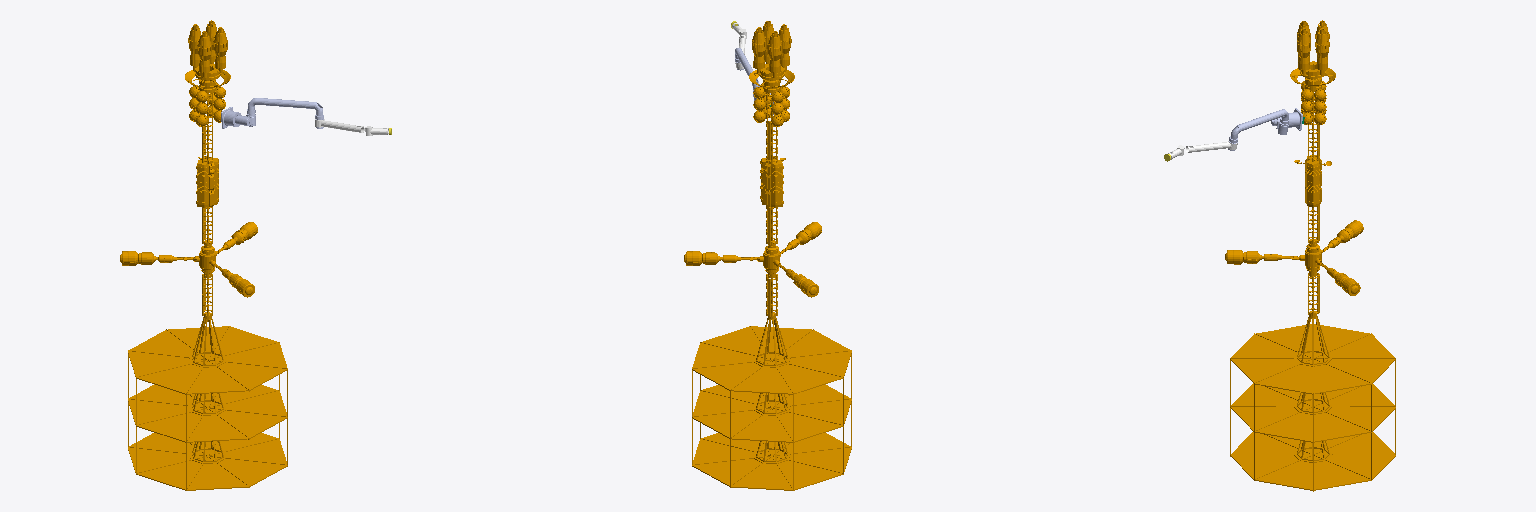
robot.urdf — satellite_17__starlink_sldasm9:
<?xml version='1.0' encoding='utf-8'?>
<robot name="satellite_17__starlink_sldasm9">
  <link name="base_link">
    <visual>
      <geometry>
        <mesh filename="../satellites/satellite_17/satellite.stl" />
      </geometry>
    </visual>
    <collision>
      <geometry>
        <mesh filename="../satellites/satellite_17/satellite.stl" />
      </geometry>
    </collision>
  </link>
  <link name="satellite_17_mount" />
  <joint name="satellite_mount_fixed" type="fixed">
    <parent link="base_link" />
    <child link="satellite_17_mount" />
    <origin xyz="0.21167709790354092 1.2761797060204623 2.356391633916866" rpy="-1.4432899320127035e-15 -1.4584003706330262 1.9683187523291181" />
  </joint>
  <link name="mount_support">
    <visual>
      <geometry>
        <mesh filename="../satellites/satellite_17/mount_support.stl" />
      </geometry>
    </visual>
    <collision>
      <geometry>
        <mesh filename="../satellites/satellite_17/mount_support.stl" />
      </geometry>
    </collision>
  </link>
  <joint name="support_fixed" type="fixed">
    <parent link="satellite_17_mount" />
    <child link="mount_support" />
    <origin xyz="0 0 0" rpy="0 0 0" />
  </joint>
  <joint name="arm_adapter_fixed" type="fixed">
    <parent link="satellite_17_mount" />
    <child link="starlink_space_manipulator_base_link" />
    <origin xyz="0.009087204933166504 0.008519247174263 0.16000000119209337" rpy="-1.5707963267948966 0 0.0" />
  </joint>
  <link name="starlink_space_manipulator_base_link">
    <inertial>
      <origin xyz="-0.00908719924946466 0.0225428225681148 -0.00851924929637313" rpy="0 0 0" />
      <mass value="8.66024015898073" />
      <inertia ixx="0.0960303512697639" ixy="1.65511904636803E-18" ixz="6.22039820639877E-19" iyy="0.103454922260914" iyz="-9.68471289978311E-19" izz="0.0960303512697639" />
    </inertial>
    <visual>
      <origin xyz="0 0 0" rpy="0 0 0" />
      <geometry>
        <mesh filename="../arms/starlink_sldasm9/meshes/starlink_space_manipulator_base_link.STL" />
      </geometry>
      <material name="">
        <color rgba="0.792156862745098 0.819607843137255 0.933333333333333 1" />
      </material>
    </visual>
    <collision>
      <origin xyz="0 0 0" rpy="0 0 0" />
      <geometry>
        <mesh filename="../arms/starlink_sldasm9/meshes/starlink_space_manipulator_base_link.STL" />
      </geometry>
    </collision>
  </link>
  <link name="starlink_space_manipulator_Shoulder_link_1">
    <inertial>
      <origin xyz="-0.000399471745595769 -0.100006574194712 -0.17423940484461" rpy="0 0 0" />
      <mass value="5.16309216784981" />
      <inertia ixx="0.0524543852135592" ixy="0.00348154867667969" ixz="6.96526910910627E-05" iyy="0.0306595326318824" iyz="-0.00056674368052247" izz="0.0439979075615329" />
    </inertial>
    <visual>
      <origin xyz="0 0 0" rpy="0 0 0" />
      <geometry>
        <mesh filename="../arms/starlink_sldasm9/meshes/starlink_space_manipulator_Shoulder_link_1.STL" />
      </geometry>
      <material name="">
        <color rgba="0.792156862745098 0.819607843137255 0.933333333333333 1" />
      </material>
    </visual>
    <collision>
      <origin xyz="0 0 0" rpy="0 0 0" />
      <geometry>
        <mesh filename="../arms/starlink_sldasm9/meshes/starlink_space_manipulator_Shoulder_link_1.STL" />
      </geometry>
    </collision>
  </link>
  <joint name="starlink_space_manipulator_Shoulder_link_1_yaw" type="revolute">
    <origin xyz="-0.0090872 -0.065 -0.0085192" rpy="1.5708 -0.15574 3.1416" />
    <parent link="starlink_space_manipulator_base_link" />
    <child link="starlink_space_manipulator_Shoulder_link_1" />
    <axis xyz="0 0 -1" />
    <limit lower="-3.14" upper="3.14" effort="0" velocity="0" />
  </joint>
  <link name="starlink_space_manipulator_Upper_arm_Link_1">
    <inertial>
      <origin xyz="0.402106341472203 -0.696465272634528 -0.170177523085579" rpy="0 0 0" />
      <mass value="5.05309869040685" />
      <inertia ixx="0.388719013133801" ixy="0.210155896498943" ixz="9.30829370680679E-08" iyy="0.146049057575642" iyz="1.71830458004218E-07" izz="0.500677708275447" />
    </inertial>
    <visual>
      <origin xyz="0 0 0" rpy="0 0 0" />
      <geometry>
        <mesh filename="../arms/starlink_sldasm9/meshes/starlink_space_manipulator_Upper_arm_Link_1.STL" />
      </geometry>
      <material name="">
        <color rgba="0.792156862745098 0.819607843137255 0.933333333333333 1" />
      </material>
    </visual>
    <collision>
      <origin xyz="0 0 0" rpy="0 0 0" />
      <geometry>
        <mesh filename="../arms/starlink_sldasm9/meshes/starlink_space_manipulator_Upper_arm_Link_1.STL" />
      </geometry>
    </collision>
  </link>
  <joint name="starlink_space_manipulator_Upper_arm_Link_1_roll" type="revolute">
    <origin xyz="0 -0.2 -0.18" rpy="1.5708 0.90646 1.5708" />
    <parent link="starlink_space_manipulator_Shoulder_link_1" />
    <child link="starlink_space_manipulator_Upper_arm_Link_1" />
    <axis xyz="0 0 -1" />
    <limit lower="-2" upper="1.5" effort="0" velocity="0" />
  </joint>
  <link name="starlink_space_manipulator_Mid_arm_Link_1">
    <inertial>
      <origin xyz="-0.000406052776441013 0.317722269561105 0.0155331755135703" rpy="0 0 0" />
      <mass value="1.57635531881168" />
      <inertia ixx="0.133610363618846" ixy="5.33750993405138E-05" ixz="-3.60473795202962E-09" iyy="0.00502119434334708" iyz="-2.514275749911E-05" izz="0.134586018527477" />
    </inertial>
    <visual>
      <origin xyz="0 0 0" rpy="0 0 0" />
      <geometry>
        <mesh filename="../arms/starlink_sldasm9/meshes/starlink_space_manipulator_Mid_arm_Link_1.STL" />
      </geometry>
      <material name="">
        <color rgba="1 1 1 1" />
      </material>
    </visual>
    <collision>
      <origin xyz="0 0 0" rpy="0 0 0" />
      <geometry>
        <mesh filename="../arms/starlink_sldasm9/meshes/starlink_space_manipulator_Mid_arm_Link_1.STL" />
      </geometry>
    </collision>
  </link>
  <joint name="starlink_space_manipulator_Mid_arm_Link_1_roll" type="revolute">
    <origin xyz="0.599999999999673 -1.03923048454122 0" rpy="-3.14159265358979 0 0.828250280535091" />
    <parent link="starlink_space_manipulator_Upper_arm_Link_1" />
    <child link="starlink_space_manipulator_Mid_arm_Link_1" />
    <axis xyz="0 0 -1" />
    <limit lower="-3.14" upper="3.14" effort="0" velocity="0" />
  </joint>
  <link name="starlink_space_manipulator_Upper_wrist_Link_1">
    <inertial>
      <origin xyz="-0.000400003664721815 -0.201565878030355 -0.00216705855311664" rpy="0 0 0" />
      <mass value="0.994770641034713" />
      <inertia ixx="0.00165409639029414" ixy="-7.59103925411082E-06" ixz="-3.17403155320863E-06" iyy="0.00201437937768072" iyz="2.63246464091218E-06" izz="0.00159638838344539" />
    </inertial>
    <visual>
      <origin xyz="0 0 0" rpy="0 0 0" />
      <geometry>
        <mesh filename="../arms/starlink_sldasm9/meshes/starlink_space_manipulator_Upper_wrist_Link_1.STL" />
      </geometry>
      <material name="">
        <color rgba="0.792156862745098 0.819607843137255 0.933333333333333 1" />
      </material>
    </visual>
    <collision>
      <origin xyz="0 0 0" rpy="0 0 0" />
      <geometry>
        <mesh filename="../arms/starlink_sldasm9/meshes/starlink_space_manipulator_Upper_wrist_Link_1.STL" />
      </geometry>
    </collision>
  </link>
  <joint name="starlink_space_manipulator_Upper_wrist_Link_1_yaw" type="revolute">
    <origin xyz="-0.00050155183276912 0.686793643713439 0.0155010481432086" rpy="0 -0.0763876794035917 3.14159265358979" />
    <parent link="starlink_space_manipulator_Mid_arm_Link_1" />
    <child link="starlink_space_manipulator_Upper_wrist_Link_1" />
    <axis xyz="0 -1 0" />
    <limit lower="-3.14" upper="3.14" effort="0" velocity="0" />
  </joint>
  <link name="starlink_space_manipulator_Upper_wrist_Link_2">
    <inertial>
      <origin xyz="8.45304168883843E-08 0.0848318719623631 -0.00515657391755576" rpy="0 0 0" />
      <mass value="1.03716823037577" />
      <inertia ixx="0.0100970561498589" ixy="1.32295633551837E-09" ixz="-9.43675929999229E-09" iyy="0.00222325407426665" iyz="-2.08772874866187E-06" izz="0.0105840577017538" />
    </inertial>
    <visual>
      <origin xyz="0 0 0" rpy="0 0 0" />
      <geometry>
        <mesh filename="../arms/starlink_sldasm9/meshes/starlink_space_manipulator_Upper_wrist_Link_2.STL" />
      </geometry>
      <material name="">
        <color rgba="1 1 1 1" />
      </material>
    </visual>
    <collision>
      <origin xyz="0 0 0" rpy="0 0 0" />
      <geometry>
        <mesh filename="../arms/starlink_sldasm9/meshes/starlink_space_manipulator_Upper_wrist_Link_2.STL" />
      </geometry>
    </collision>
  </link>
  <joint name="starlink_space_manipulator_Upper_wrist_Link_2_roll" type="revolute">
    <origin xyz="0 -0.30020635628656 0" rpy="-0.0158640776811277 -0.0317448426184613 -2.67805461574742" />
    <parent link="starlink_space_manipulator_Upper_wrist_Link_1" />
    <child link="starlink_space_manipulator_Upper_wrist_Link_2" />
    <axis xyz="0 0 1" />
    <limit lower="-2.5" upper="1.8" effort="0" velocity="0" />
  </joint>
  <link name="starlink__space_manipulator_2F-Body_Link">
    </link>
  <joint name="starlink__space_manipulator_2F-Body_Link_yaw" type="revolute">
    <origin xyz="0 0.34845 -0.0053813" rpy="-3.1416 0.93592 0" />
    <parent link="starlink_space_manipulator_Upper_wrist_Link_2" />
    <child link="starlink__space_manipulator_2F-Body_Link" />
    <axis xyz="0 -1 0" />
    <limit lower="-3.14" upper="3.14" effort="0" velocity="0" />
  </joint>
  <link name="angular_hand">
    <visual>
      <geometry>
        <mesh filename="../arms/starlink_sldasm9/meshes/hand_2finger.STL" scale="2 2 2" />
      </geometry>
    </visual>
    <collision>
      <geometry>
        <mesh filename="../arms/starlink_sldasm9/meshes/hand_2finger.STL" scale="2 2 2" />
      </geometry>
    </collision>
  </link>
  <joint name="angular_hand_fixed" type="fixed">
    <parent link="starlink__space_manipulator_2F-Body_Link" />
    <child link="angular_hand" />
    <origin xyz="0 -0.036 0" rpy="-1.5707963267948966 0 0" />
  </joint>
  <link name="angular_adapter">
    <visual>
      <geometry>
        <mesh filename="../arms/starlink_sldasm9/meshes/angular_adapter.stl" />
      </geometry>
    </visual>
    <collision>
      <geometry>
        <mesh filename="../arms/starlink_sldasm9/meshes/angular_adapter.stl" />
      </geometry>
    </collision>
  </link>
  <joint name="angular_adapter_fixed" type="fixed">
    <parent link="starlink__space_manipulator_2F-Body_Link" />
    <child link="angular_adapter" />
    <origin xyz="0 -0.0005 0" rpy="1.5707963267948966 0 0" />
  </joint>
  <link name="angular_finger_1">
    <visual>
      <geometry>
        <mesh filename="../arms/starlink_sldasm9/meshes/finger_proximal.STL" scale="2 2 2" />
      </geometry>
    </visual>
    <collision>
      <geometry>
        <mesh filename="../arms/starlink_sldasm9/meshes/finger_proximal.STL" scale="2 2 2" />
      </geometry>
    </collision>
  </link>
  <link name="angular_tip_1">
    <visual>
      <geometry>
        <mesh filename="../arms/starlink_sldasm9/meshes/finger_distal.STL" scale="2 2 2" />
      </geometry>
    </visual>
    <collision>
      <geometry>
        <mesh filename="../arms/starlink_sldasm9/meshes/finger_distal.STL" scale="2 2 2" />
      </geometry>
    </collision>
  </link>
  <joint name="angular_joint_1" type="revolute">
    <parent link="angular_hand" />
    <child link="angular_finger_1" />
    <axis xyz="0 0 1" />
    <origin xyz="-0.005 0.0619 -0.22964" rpy="-1.570796327 .649262481663582 1.5707963267948966" />
    <limit lower="0" upper="1.51" effort="2" velocity="1" />
  </joint>
  <joint name="angular_joint_tip_1" type="revolute">
    <parent link="angular_finger_1" />
    <child link="angular_tip_1" />
    <axis xyz="0 0 1" />
    <origin xyz="0.088 -0.006 0.0" rpy="0 0 0" />
    <limit lower="0" upper="2" effort="2" velocity="1" />
  </joint>
  <link name="angular_finger_2">
    <visual>
      <geometry>
        <mesh filename="../arms/starlink_sldasm9/meshes/finger_proximal.STL" scale="2 2 2" />
      </geometry>
    </visual>
    <collision>
      <geometry>
        <mesh filename="../arms/starlink_sldasm9/meshes/finger_proximal.STL" scale="2 2 2" />
      </geometry>
    </collision>
  </link>
  <link name="angular_tip_2">
    <visual>
      <geometry>
        <mesh filename="../arms/starlink_sldasm9/meshes/finger_distal.STL" scale="2 2 2" />
      </geometry>
    </visual>
    <collision>
      <geometry>
        <mesh filename="../arms/starlink_sldasm9/meshes/finger_distal.STL" scale="2 2 2" />
      </geometry>
    </collision>
  </link>
  <joint name="angular_joint_2" type="revolute">
    <parent link="angular_hand" />
    <child link="angular_finger_2" />
    <axis xyz="0 0 1" />
    <origin xyz="-0.005 -0.0619 -0.22964" rpy="-1.570796327 .649262481663582 -1.5707963267948966" />
    <limit lower="0" upper="1.51" effort="2" velocity="1" />
  </joint>
  <joint name="angular_joint_tip_2" type="revolute">
    <parent link="angular_finger_2" />
    <child link="angular_tip_2" />
    <axis xyz="0 0 1" />
    <origin xyz="0.088 -0.006 0.0" rpy="0 0 0" />
    <limit lower="0" upper="2" effort="2" velocity="1" />
  </joint>
  <link name="angular_tcp" />
  <joint name="angular_tcp_fixed" type="fixed">
    <parent link="angular_hand" />
    <child link="angular_tcp" />
    <origin xyz="-0.005 0 -0.34" rpy="3.141592653589793 0 0" />
  </joint>
</robot>

--- What the picture shows (computed from the rendered views, not written in the file) ---
Views: 3 orthographic renders of the robot side by side, from view 1: azimuth 30°, elevation 25°; view 2: azimuth 150°, elevation 25°; view 3: azimuth 270°, elevation 25°.
Robot: satellite_17__starlink_sldasm9 — 17 links, 16 joints (10 revolute, 6 fixed); root link base_link; default pose: every joint at zero.
Visible links, largest first — view 1: base_link, starlink_space_manipulator_Upper_arm_Link_1; view 2: base_link; view 3: base_link, starlink_space_manipulator_Upper_arm_Link_1.
Link boxes in pixels (bbox=[...]): base_link: bbox=[120, 20, 287, 490]; starlink_space_manipulator_Upper_arm_Link_1: bbox=[248, 98, 323, 128]; base_link: bbox=[684, 21, 851, 490]; base_link: bbox=[1225, 20, 1395, 491]; starlink_space_manipulator_Upper_arm_Link_1: bbox=[1228, 109, 1288, 150].
Bounding box of the posed robot: 3.58 × 3.89 × 8 m (x, y, z).
Meshes: 12 distinct files referenced, 8 mesh visuals loaded (8 binary STL); not drawn: 6 (reference not matched to a file when rendering).
